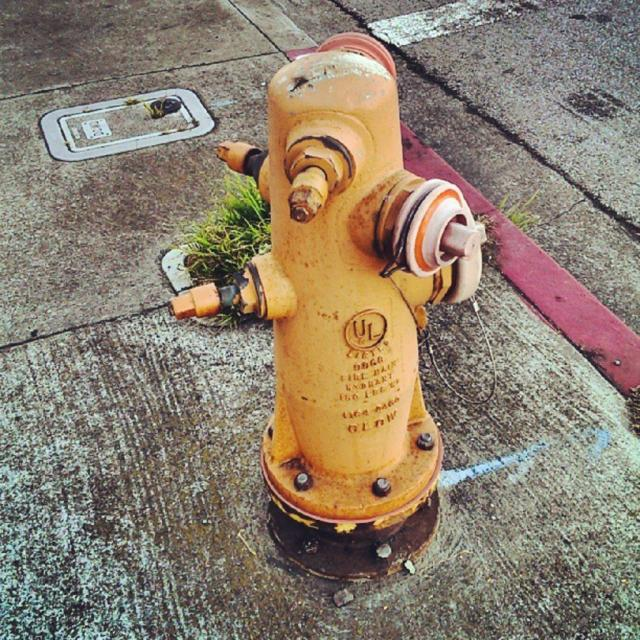fire_hydrant: (168, 34, 484, 580)
